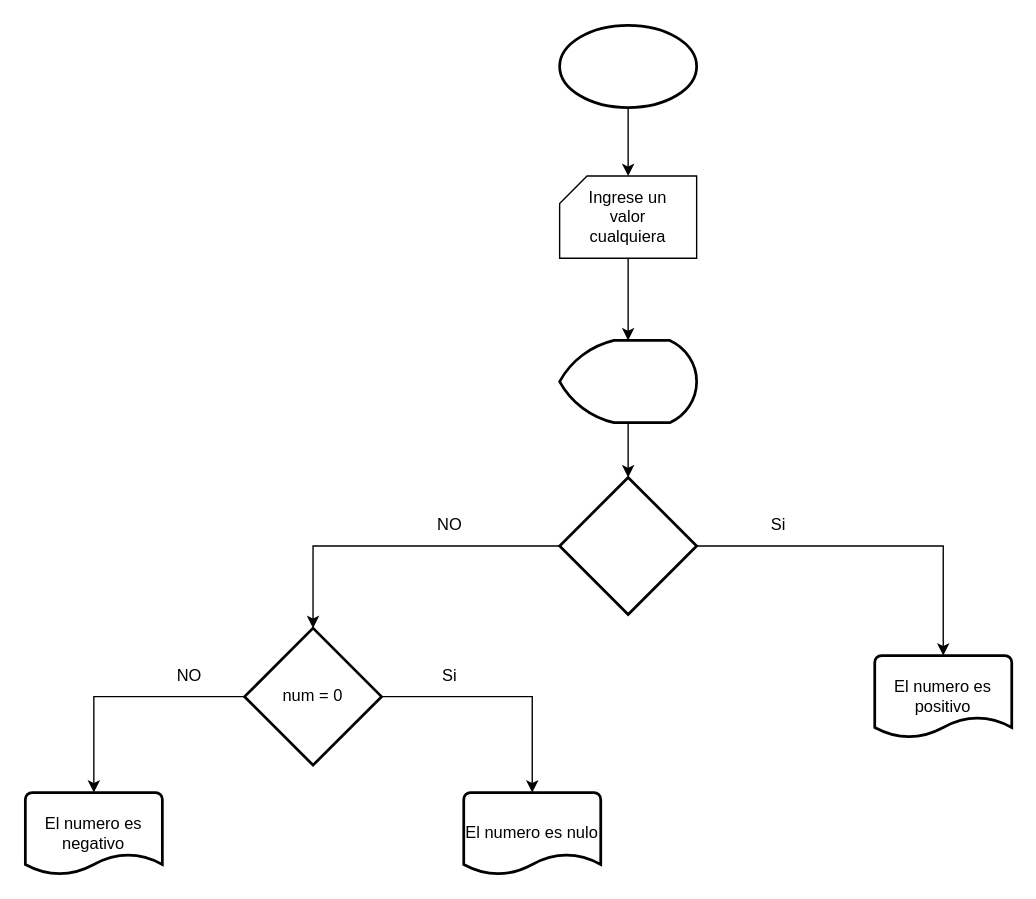
The diagram is 1036 pixels wide and 899 high, and some of its shapes have lost their labels. The shapes that lost their labels are listed below. From the top down, each one's centre as x and y in pixels, then its label:
the point at 627,65: Caracteristica valor
the point at 627,380: Visualizo datos
the point at 627,545: num > 0
